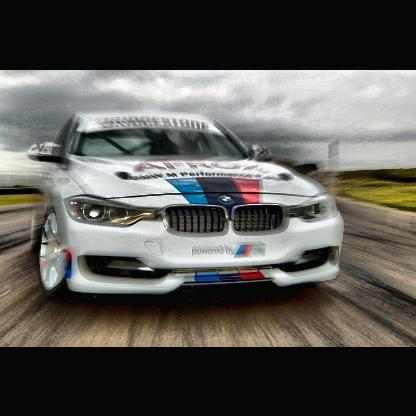BMW 3 Series Sedan 2012: (18, 108, 354, 313)
